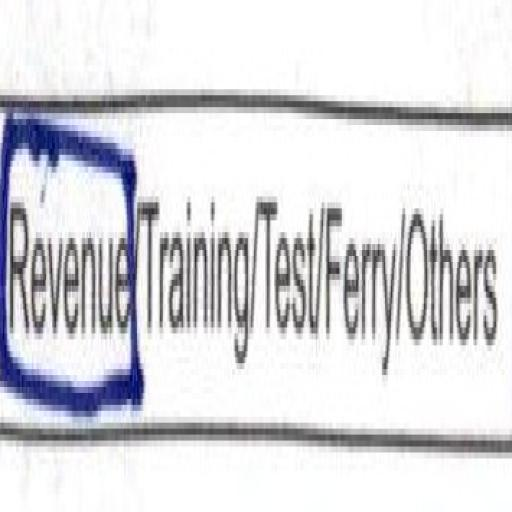check: (0, 65, 137, 512)
